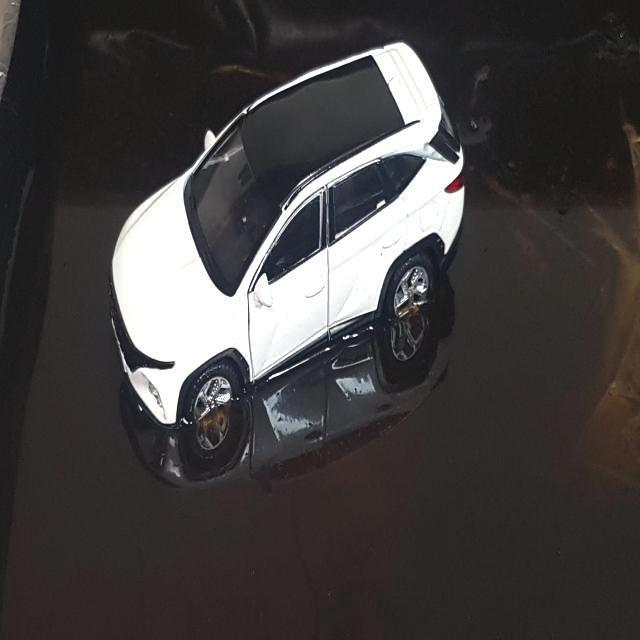water: (0, 1, 380, 639), (326, 0, 638, 638)
